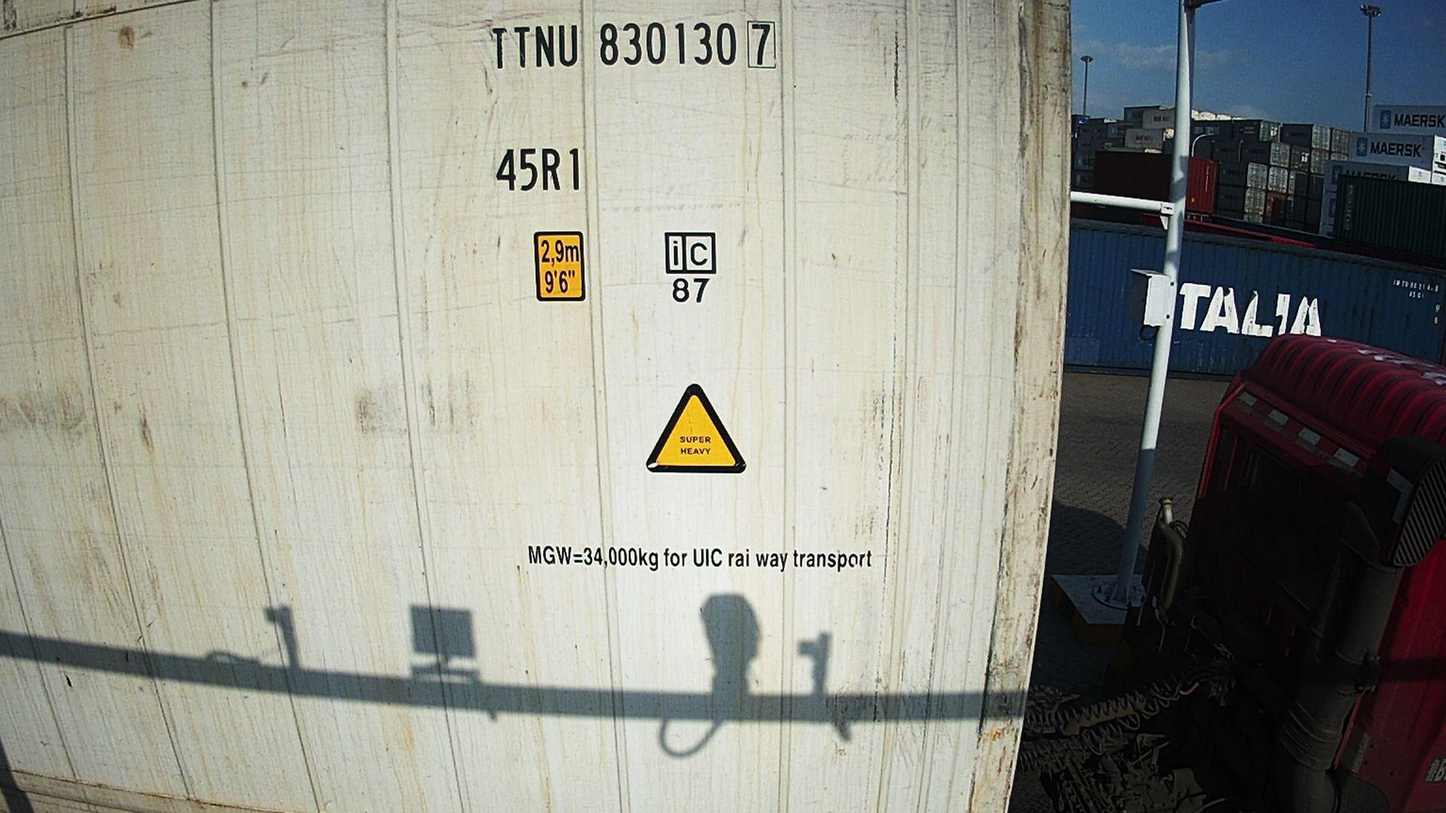container-numbers: (485, 18, 781, 75), (519, 545, 881, 573), (491, 142, 590, 198)
